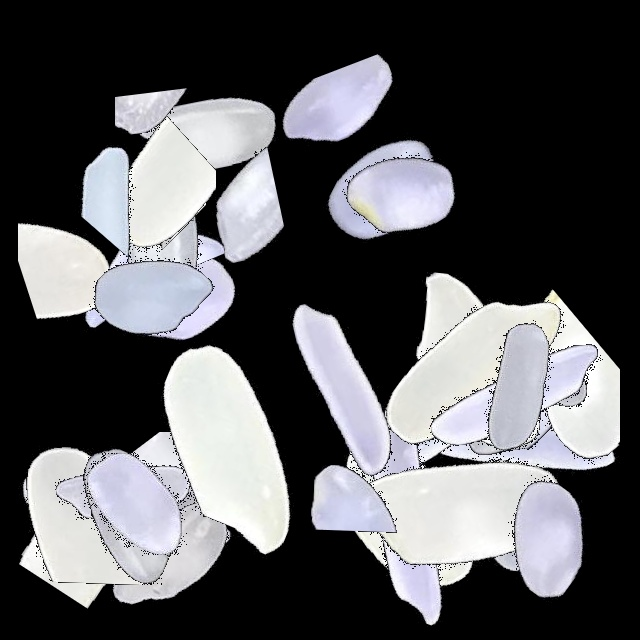Broken: (430, 389, 601, 639), (72, 390, 242, 640), (13, 390, 181, 640), (6, 378, 166, 628), (277, 20, 430, 270), (386, 384, 537, 634), (71, 48, 220, 298), (59, 432, 309, 580), (71, 73, 216, 323), (477, 270, 620, 520), (288, 336, 427, 586), (87, 142, 337, 276), (81, 54, 206, 304), (102, 88, 224, 338), (1, 121, 251, 237), (350, 400, 600, 509), (115, 18, 220, 268), (18, 127, 120, 377), (372, 30, 460, 280), (431, 374, 518, 624), (321, 486, 571, 566), (451, 311, 531, 561), (147, 64, 224, 314)
Full: (390, 321, 640, 571), (390, 282, 640, 532), (56, 177, 306, 427), (85, 8, 335, 258), (258, 63, 508, 313), (270, 383, 520, 633), (0, 388, 250, 638), (357, 235, 607, 485), (327, 262, 577, 512), (35, 384, 285, 634), (390, 252, 640, 502), (354, 390, 604, 640), (346, 287, 596, 537), (283, 390, 533, 640), (18, 117, 268, 367), (44, 104, 294, 354), (345, 242, 595, 492), (390, 269, 640, 519), (331, 384, 581, 634), (0, 366, 250, 616), (390, 260, 640, 510), (216, 262, 466, 512), (280, 69, 530, 319), (106, 323, 356, 573), (24, 169, 274, 419), (0, 390, 250, 640), (8, 380, 258, 630)
